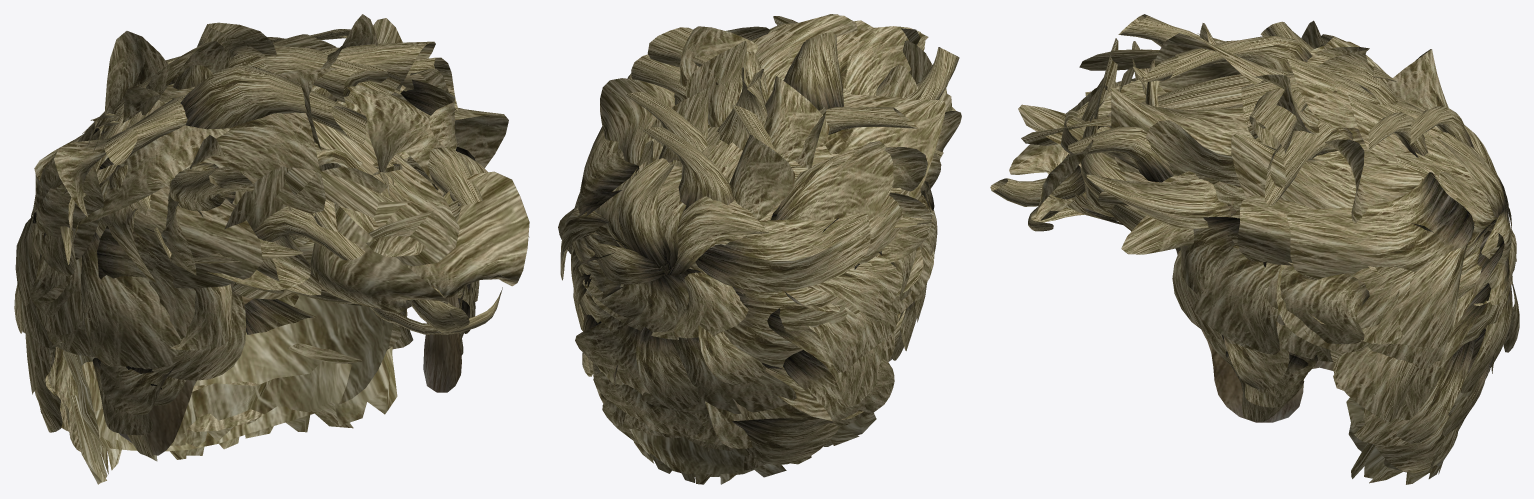
Rendered from ManHair1.glb.
3 views of the same model, side by side, from view 1: azimuth 30°, elevation 25°; view 2: azimuth 150°, elevation 25°; view 3: azimuth 270°, elevation 25° (orthographic). The views are drawn at different scales.
Parts seen in each view (by area): view 1: WildMane for Genesis; view 2: WildMane for Genesis; view 3: WildMane for Genesis.
Part boxes in pixels (x1,y1,x2,y2): WildMane for Genesis: (14, 14, 529, 484); WildMane for Genesis: (558, 14, 961, 484); WildMane for Genesis: (990, 14, 1519, 484).
Size of the model in its own units: 22.47 by 24.74 by 28.47.
6 materials, 6 textured.
